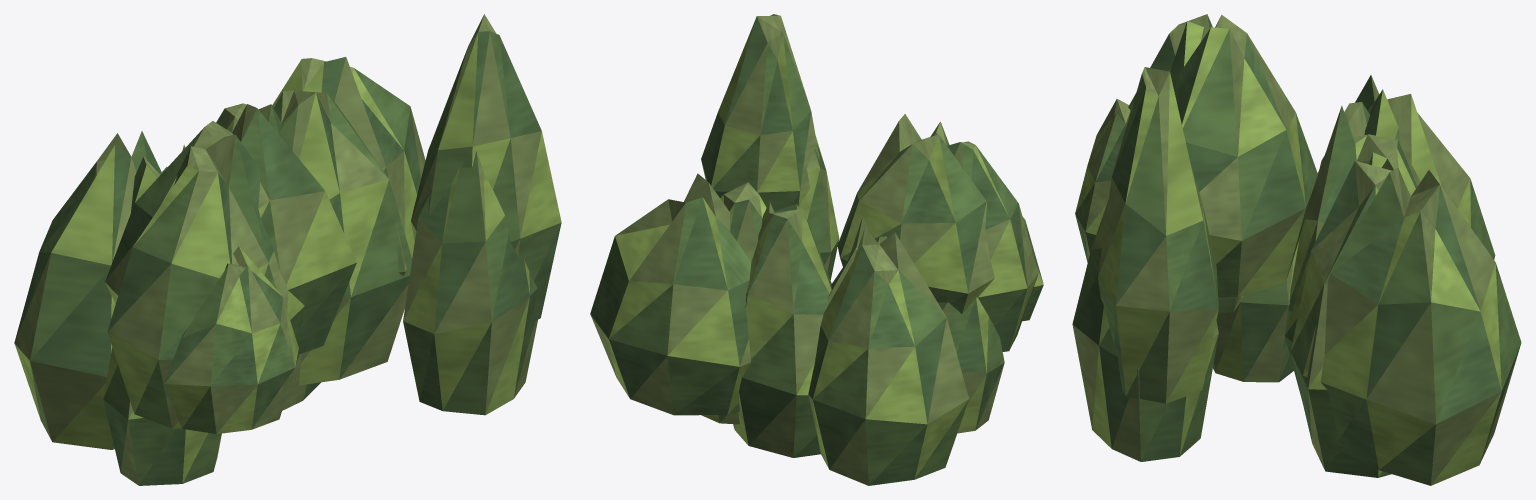
File: bush_leafy_04.fbx
3 renders of one model, left to right at view 1: azimuth 30°, elevation 25°; view 2: azimuth 150°, elevation 25°; view 3: azimuth 270°, elevation 25°, orthographic. The views are drawn at different scales.
Visible parts, largest first — view 1: bush_leafy_04; view 2: bush_leafy_04; view 3: bush_leafy_04.
Boxes of the visible parts, bbox=[...] form: bush_leafy_04: bbox=[14, 14, 561, 485]; bush_leafy_04: bbox=[590, 14, 1043, 485]; bush_leafy_04: bbox=[1072, 14, 1521, 485].
Bounding box in the file's own units: 176 × 159 × 150.
1 material, 1 textured.
